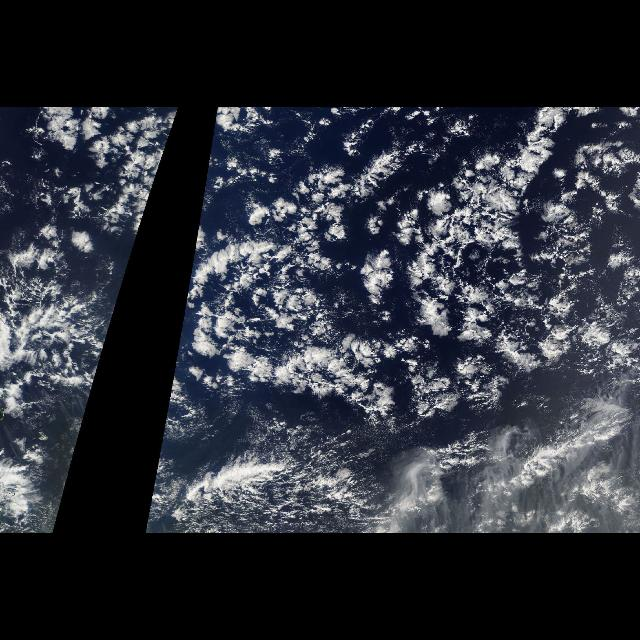Flower: (184, 169, 461, 425)
